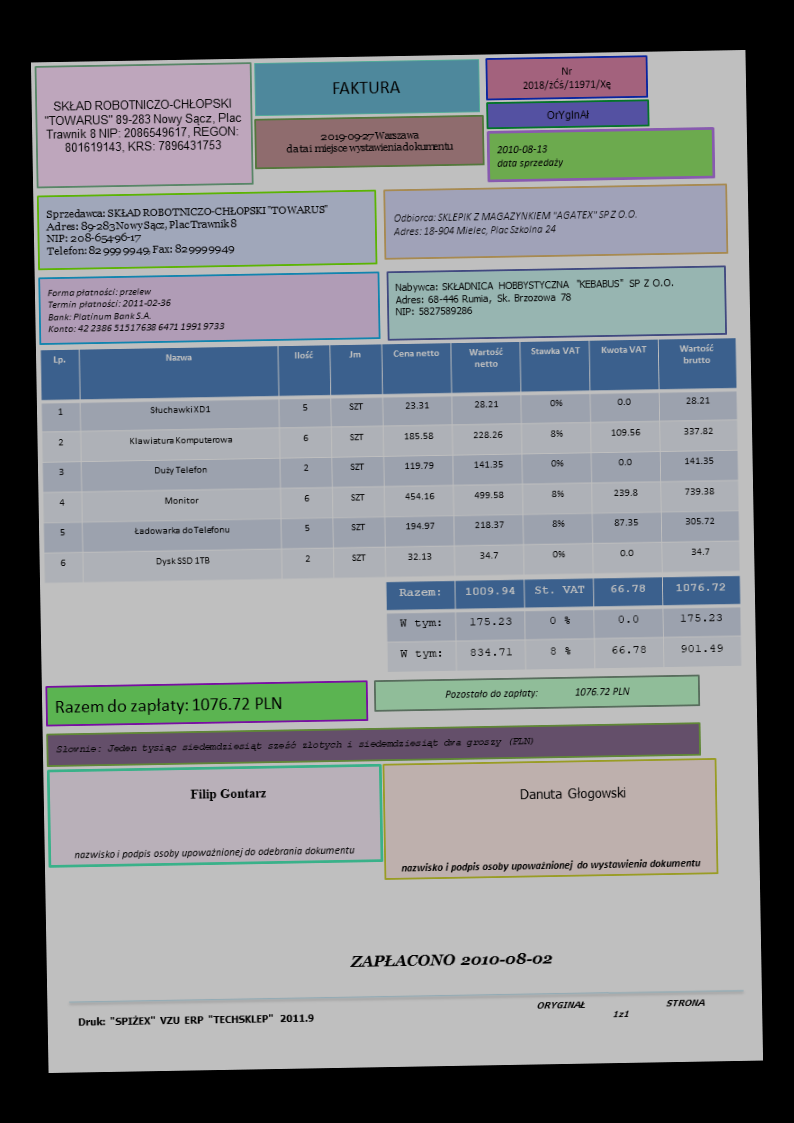Table: (39, 336, 739, 584), (385, 575, 744, 673)
TextBox: (42, 201, 330, 259), (392, 275, 678, 318), (41, 96, 244, 155), (54, 734, 534, 756), (45, 283, 226, 337), (391, 208, 640, 239), (399, 855, 702, 874), (54, 693, 284, 717), (72, 844, 356, 862), (283, 128, 457, 156), (345, 949, 555, 972), (76, 1011, 317, 1029), (535, 997, 708, 1021), (443, 684, 633, 702), (520, 65, 614, 94), (518, 785, 627, 805), (494, 141, 566, 170), (329, 78, 402, 99), (188, 785, 268, 802), (544, 106, 591, 123)
